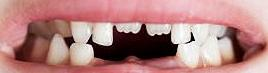Hypodontia: (90, 43, 128, 64), (131, 45, 177, 60)
